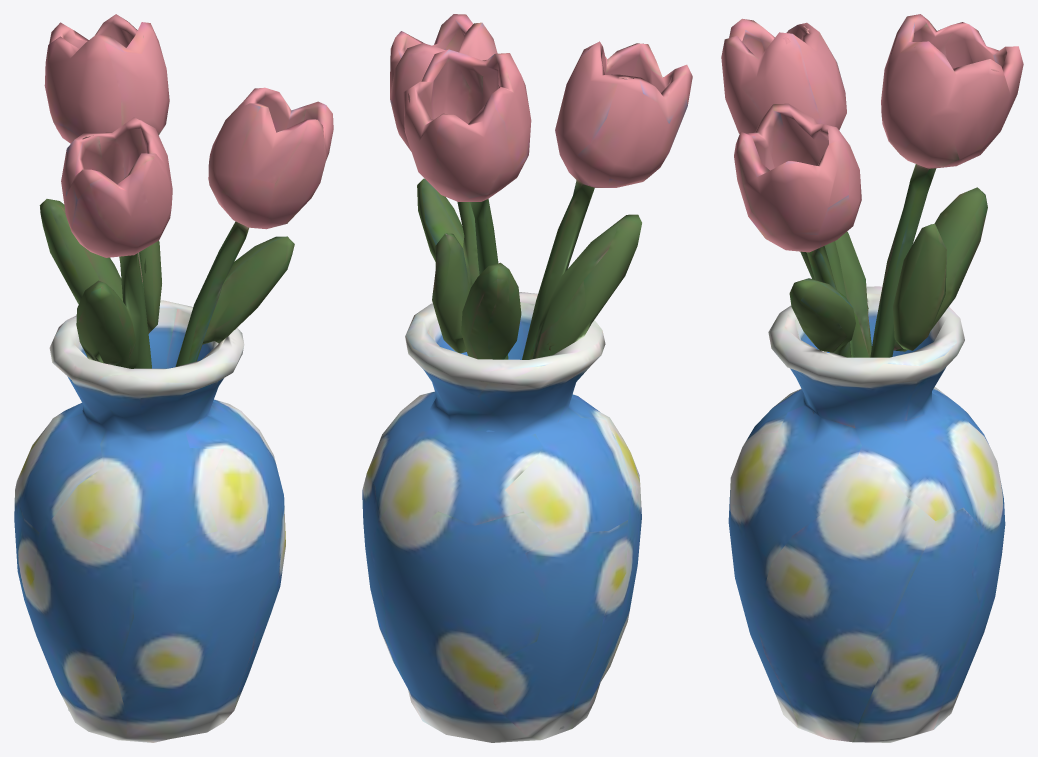
Rendered from vase.glb.
The picture shows the model from 3 angles, left to right: view 1: azimuth 30°, elevation 25°; view 2: azimuth 150°, elevation 25°; view 3: azimuth 270°, elevation 25°; orthographic projection. The views are drawn at different scales.
Size of the model in its own units: 0.4277 by 1 by 0.4027.
Materials: 1 (1 with a texture image).
